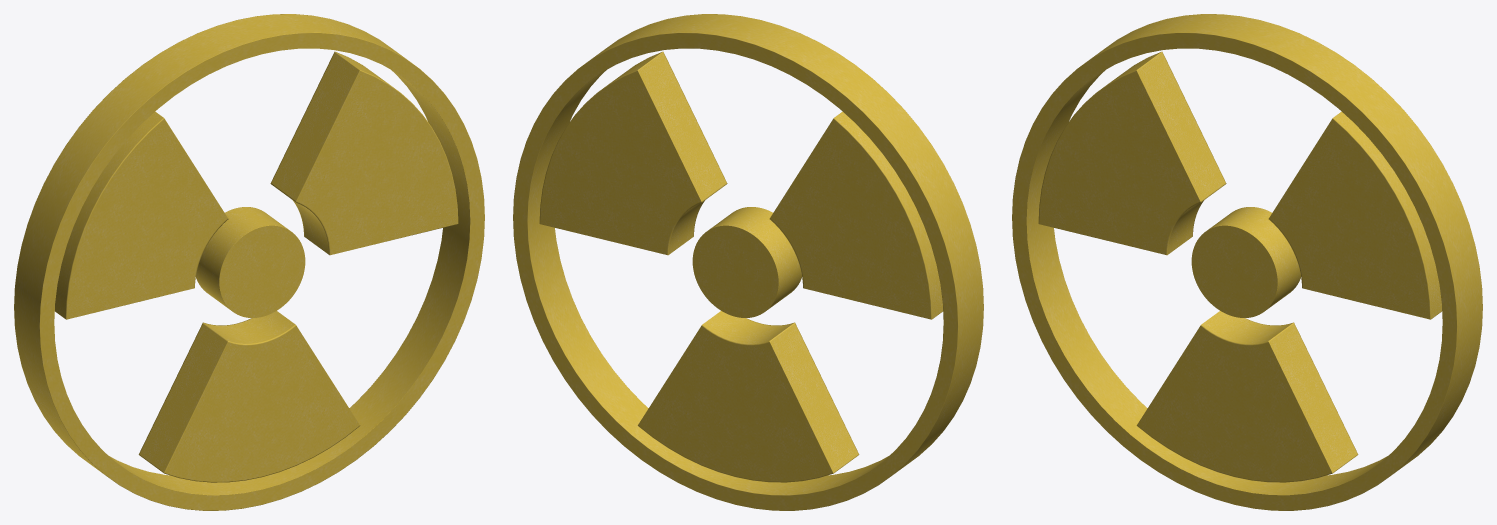
3 renders of one model, left to right at view 1: azimuth 30°, elevation 25°; view 2: azimuth 150°, elevation 25°; view 3: azimuth 330°, elevation 25°, orthographic.
Parts seen in each view (by area): view 1: radioactive_symbol; view 2: radioactive_symbol; view 3: radioactive_symbol.
Part boxes in pixels (left/top/right/bottom): radioactive_symbol: left=14, top=14, right=484, bottom=510; radioactive_symbol: left=513, top=14, right=983, bottom=510; radioactive_symbol: left=1012, top=14, right=1482, bottom=510.
Size of the model in its own units: 0.1 by 0.1 by 0.01.
1 material, 1 textured.
